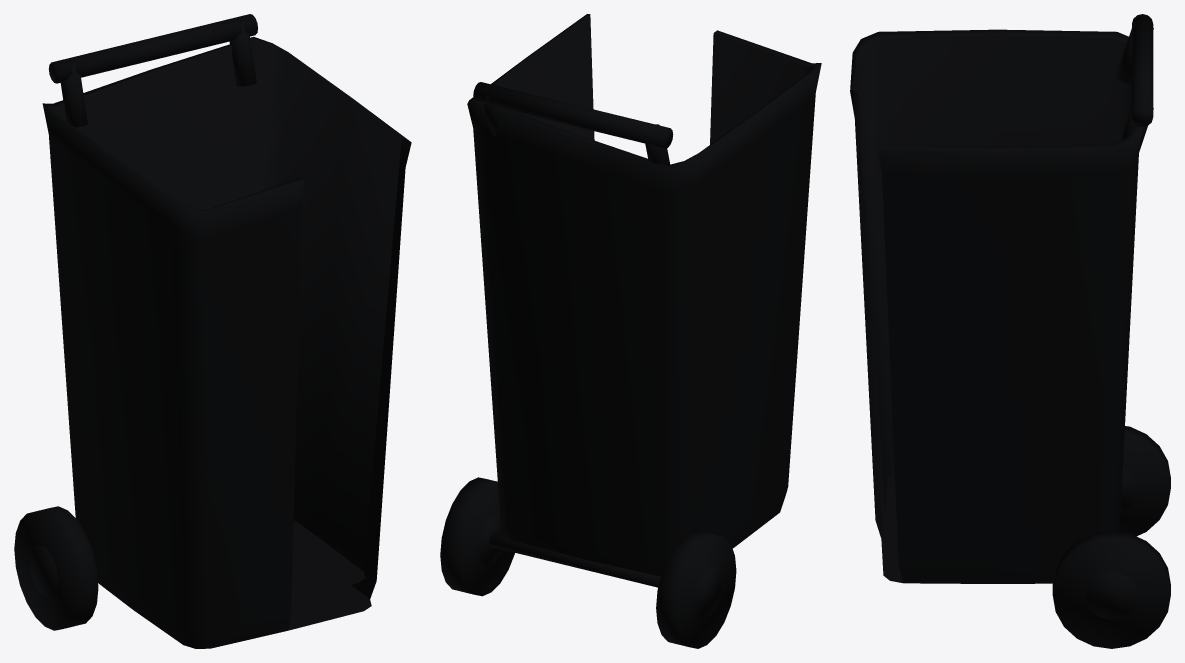
Rendered from bin-charred.glb.
The picture shows the model from 3 angles, left to right: view 1: azimuth 30°, elevation 25°; view 2: azimuth 150°, elevation 25°; view 3: azimuth 270°, elevation 25°; orthographic projection. The views are drawn at different scales.
Visible parts, largest first — view 1: bin-charred; view 2: bin-charred; view 3: bin-charred.
Part boxes in pixels (x1=…): bin-charred: x1=14, y1=14, x2=411, y2=648; bin-charred: x1=440, y1=14, x2=821, y2=648; bin-charred: x1=850, y1=14, x2=1170, y2=648.
Bounding box in the file's own units: 0.478 × 0.988 × 0.543.
1 material, 1 textured.
